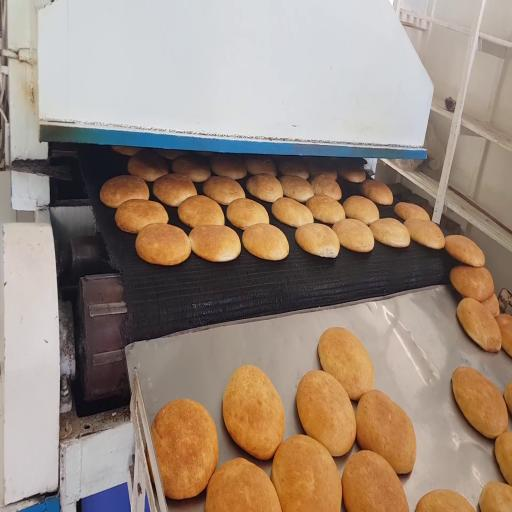bread: (152, 400, 218, 499), (223, 366, 285, 459), (271, 435, 342, 511), (356, 390, 416, 474), (296, 371, 355, 456), (342, 450, 409, 511), (318, 328, 374, 400), (205, 458, 281, 511), (452, 367, 508, 438), (457, 298, 501, 352), (136, 224, 190, 265), (189, 225, 241, 262), (115, 200, 168, 233), (243, 223, 289, 260), (100, 175, 149, 208), (450, 266, 494, 301), (178, 196, 224, 228), (295, 224, 339, 257), (153, 174, 197, 206), (333, 219, 374, 252), (128, 150, 168, 182), (227, 199, 269, 229), (445, 235, 485, 266), (404, 218, 444, 249), (203, 176, 245, 205), (416, 490, 474, 511), (272, 198, 313, 227), (306, 195, 345, 225), (370, 218, 410, 247), (343, 196, 379, 225), (246, 174, 283, 202), (172, 156, 210, 182), (494, 432, 512, 484), (479, 482, 511, 511), (279, 176, 313, 202), (211, 155, 247, 179), (310, 174, 341, 200), (361, 180, 393, 205), (278, 157, 309, 179), (495, 314, 511, 356), (307, 157, 337, 179), (394, 202, 430, 220), (246, 156, 276, 176), (338, 168, 366, 183), (482, 294, 499, 317), (155, 149, 188, 159), (112, 146, 141, 156), (504, 382, 511, 413)
